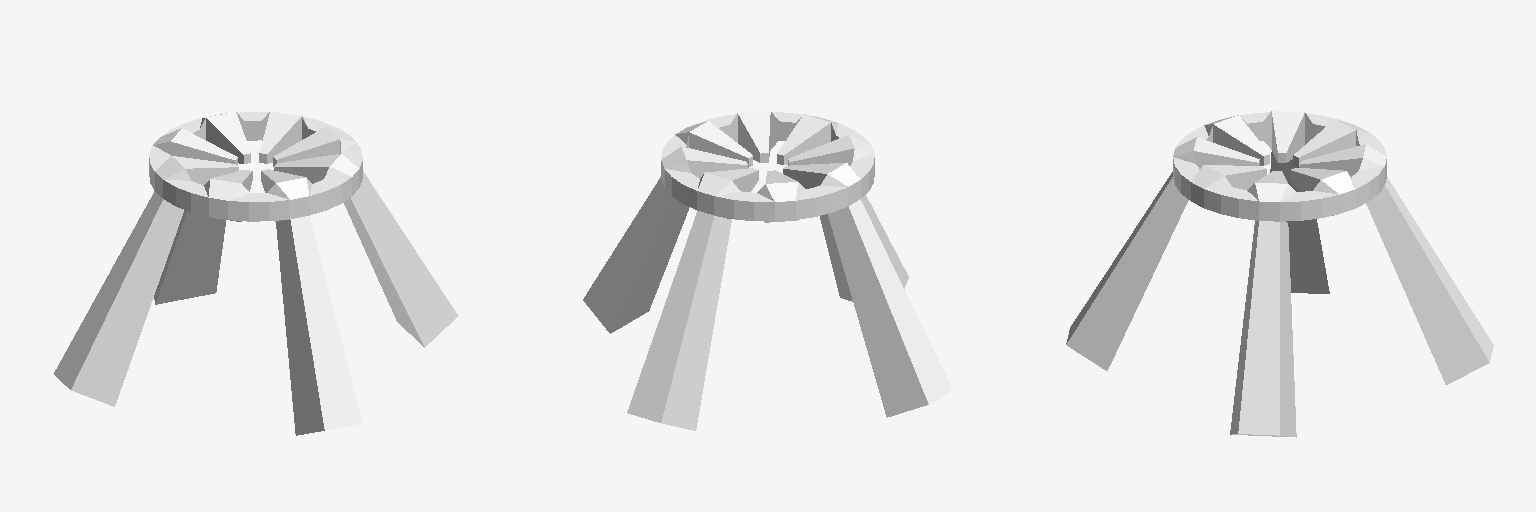
File: quarry.obj
3 renders of one model, left to right at view 1: azimuth 30°, elevation 25°; view 2: azimuth 150°, elevation 25°; view 3: azimuth 270°, elevation 25°, orthographic.
Visible parts, largest first — view 1: Circle; view 2: Circle; view 3: Circle.
Part boxes in pixels (bbox=[...]): Circle: bbox=[54, 111, 457, 435]; Circle: bbox=[583, 111, 952, 430]; Circle: bbox=[1066, 111, 1493, 437].
Size of the model in its own units: 19.99 by 11.19 by 19.99.